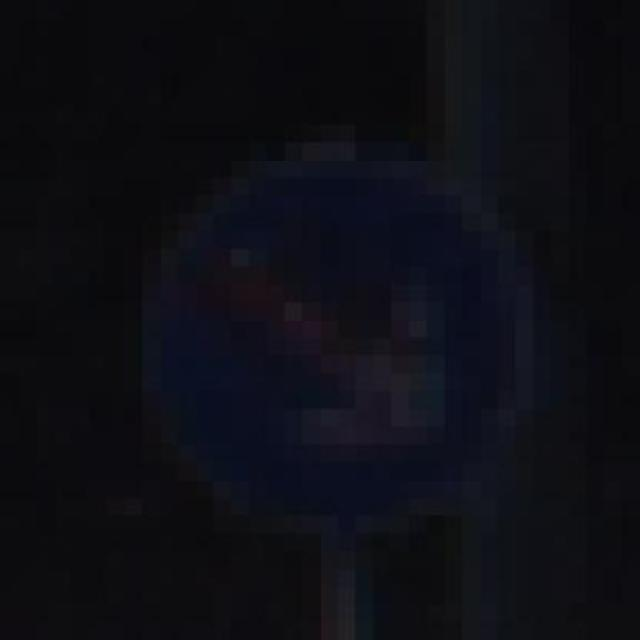Keep-Right: (142, 142, 533, 533)
